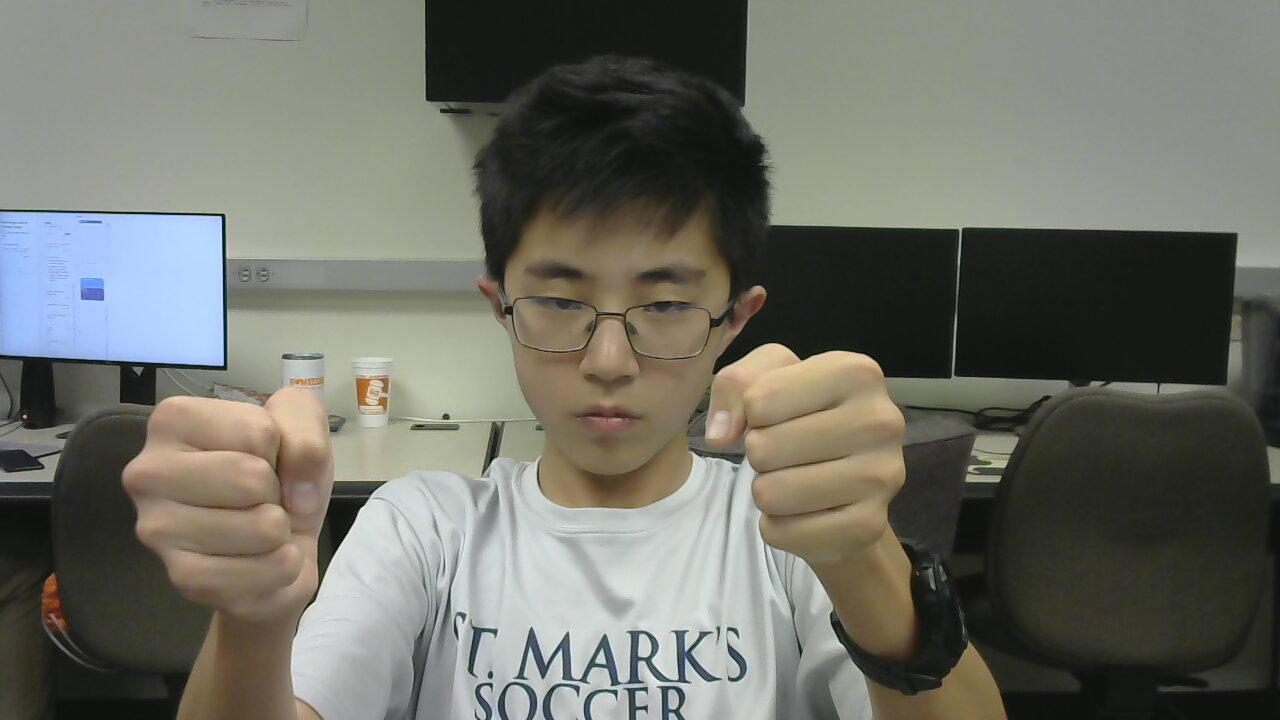fist: (126, 367, 354, 631), (703, 334, 939, 573)
